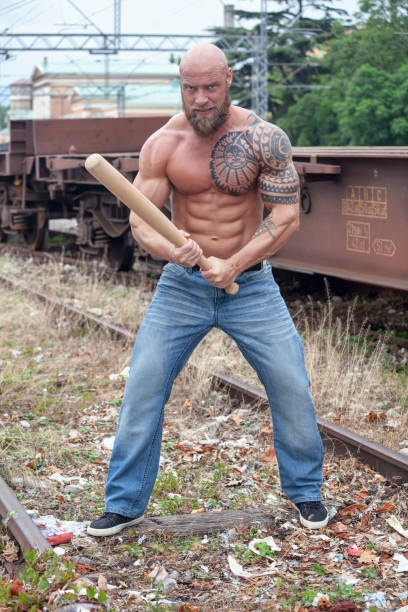bita: (85, 155, 237, 285)
